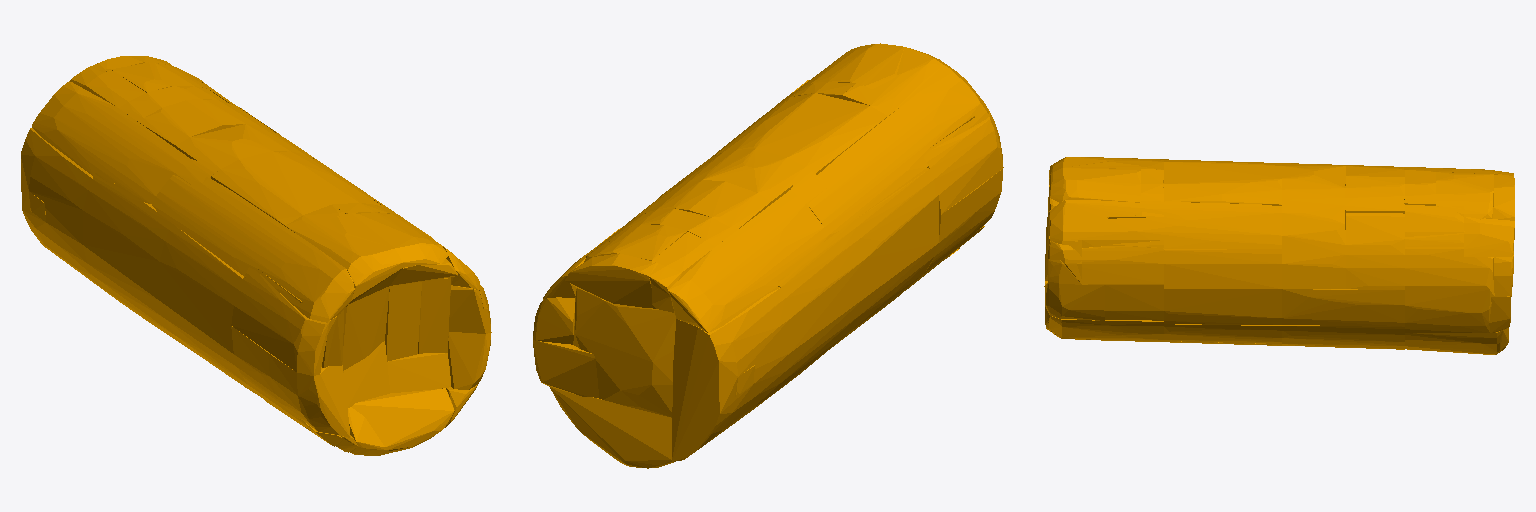
URDF robot description (can-redbull):
<?xml version="1.0" ?>
<robot name="can-redbull">
  <link name="baseLink">
    <contact>
      <lateral_friction value="1.0"/>
      <inertia_scaling value="3.0"/>
    </contact>
    <inertial>
      <origin rpy="0 0 0" xyz="0.000 0.000 0.000"/>
       <mass value=".1"/>
       <inertia ixx="1" ixy="0.0" ixz="0.0" iyy="1" iyz="0.0" izz="1"/>
    </inertial>
    <visual>
      <origin rpy="0 0 0" xyz="0 0 0"/>
      <geometry>
        <mesh filename="can/can-redbull.obj" scale="1.0 1.0 1.0"/>
      </geometry>
    </visual>
    <collision>
      <origin rpy="0 0 0" xyz="0 0 0"/>
      <geometry>
        <mesh filename="../collision/can/can-redbull.obj" scale="1.0 1.0 1.0"/>
      </geometry>
    </collision>
  </link>
</robot>
        

--- Facts derived from the render (not from the file) ---
3 views of the same robot in one strip: view 1: azimuth 30°, elevation 25°; view 2: azimuth 150°, elevation 25°; view 3: azimuth 270°, elevation 25° (orthographic).
Model can-redbull with 1 links and 0 joints (none), rooted at baseLink, posed every joint at zero.
Links seen in each view (by area): view 1: baseLink; view 2: baseLink; view 3: baseLink.
Link boxes in pixels (left/top/right/bottom): baseLink: left=21, top=56, right=491, bottom=455; baseLink: left=533, top=43, right=1003, bottom=468; baseLink: left=1044, top=157, right=1514, bottom=354.
Bounding box of the posed robot: 0.0533 × 0.1366 × 0.0568 m (x, y, z).
Meshes: 1 distinct files referenced, 1 mesh visuals loaded (1 OBJ).